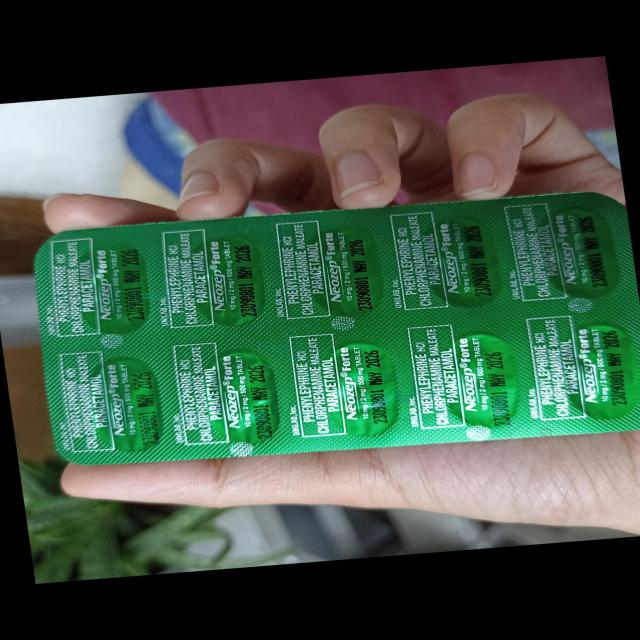Neozep_Strip: (17, 184, 640, 484)
